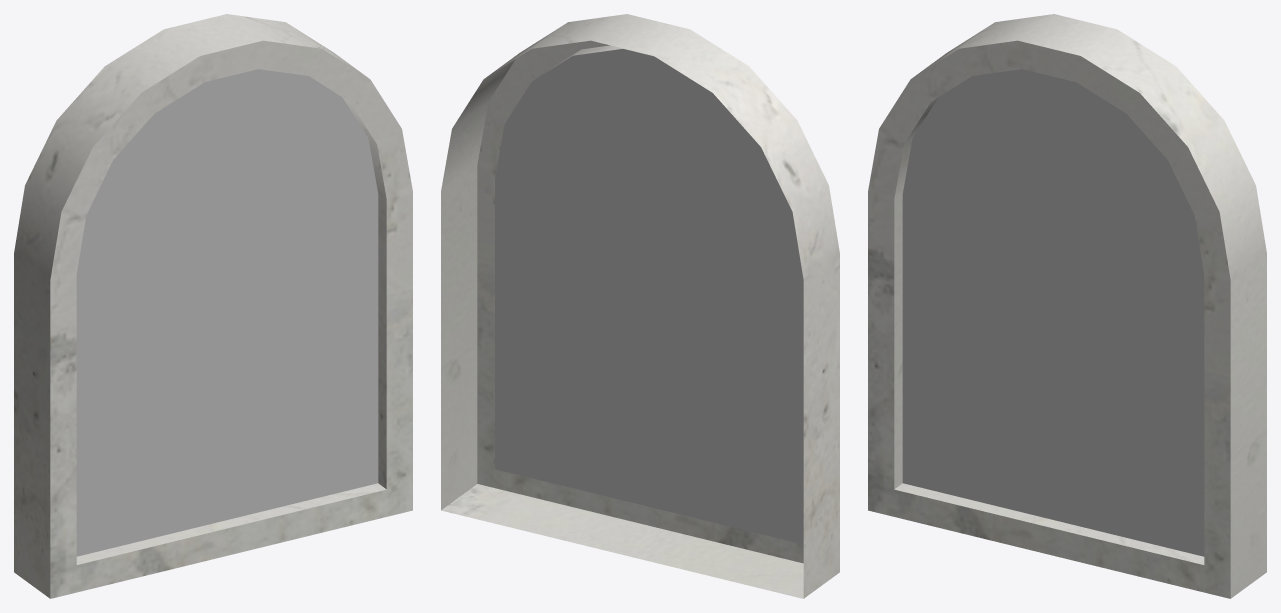
File: window 2.FBX
3 renders of one model, left to right at view 1: azimuth 30°, elevation 25°; view 2: azimuth 150°, elevation 25°; view 3: azimuth 330°, elevation 25°, orthographic.
Visible parts, largest first — view 1: window006; view 2: window006; view 3: window006.
Boxes of the visible parts, left/top/right/bottom form: window006: left=14, top=14, right=412, bottom=598; window006: left=441, top=14, right=839, bottom=598; window006: left=868, top=14, right=1266, bottom=598.
Bounding box in the file's own units: 0.6258 × 0.8354 × 0.1088.
